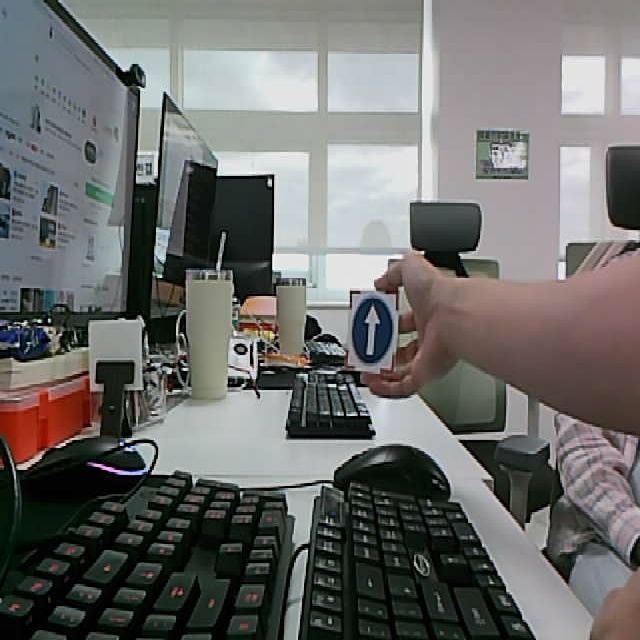straight: (345, 289, 400, 374)
